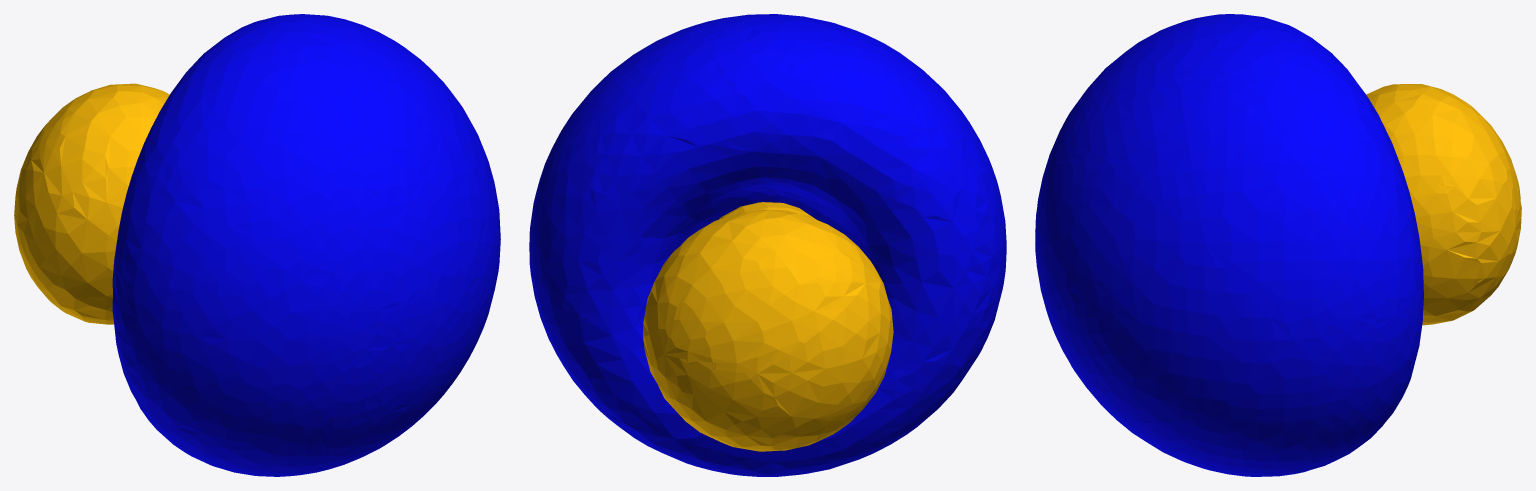
The picture shows the model from 3 angles, left to right: view 1: azimuth 30°, elevation 25°; view 2: azimuth 150°, elevation 25°; view 3: azimuth 270°, elevation 25°; orthographic projection. The views are drawn at different scales.
Bounding box in the file's own units: 19.16 × 20.04 × 20.91.
